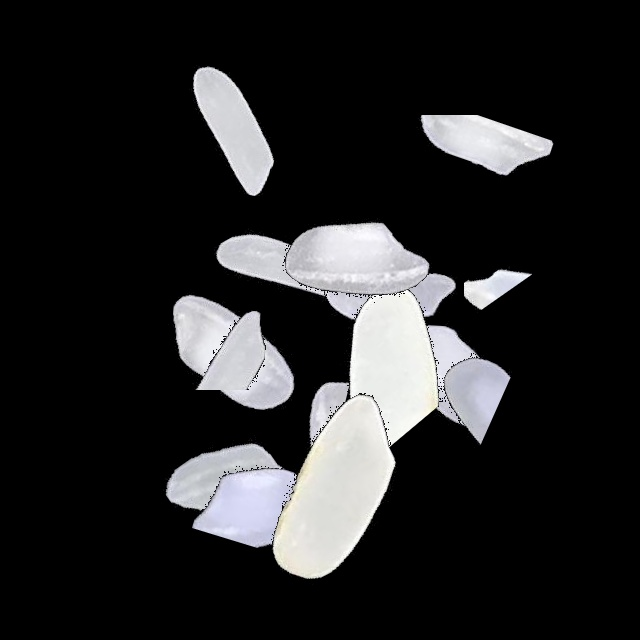Broken: (291, 223, 460, 473), (189, 342, 350, 592), (340, 115, 590, 256), (98, 252, 348, 390), (307, 316, 557, 452), (155, 382, 405, 491), (464, 113, 551, 363)
Full: (166, 149, 416, 399), (264, 173, 514, 423), (109, 226, 359, 476), (316, 249, 566, 499), (99, 353, 349, 603), (107, 7, 357, 257), (207, 366, 457, 616), (229, 140, 479, 390)
